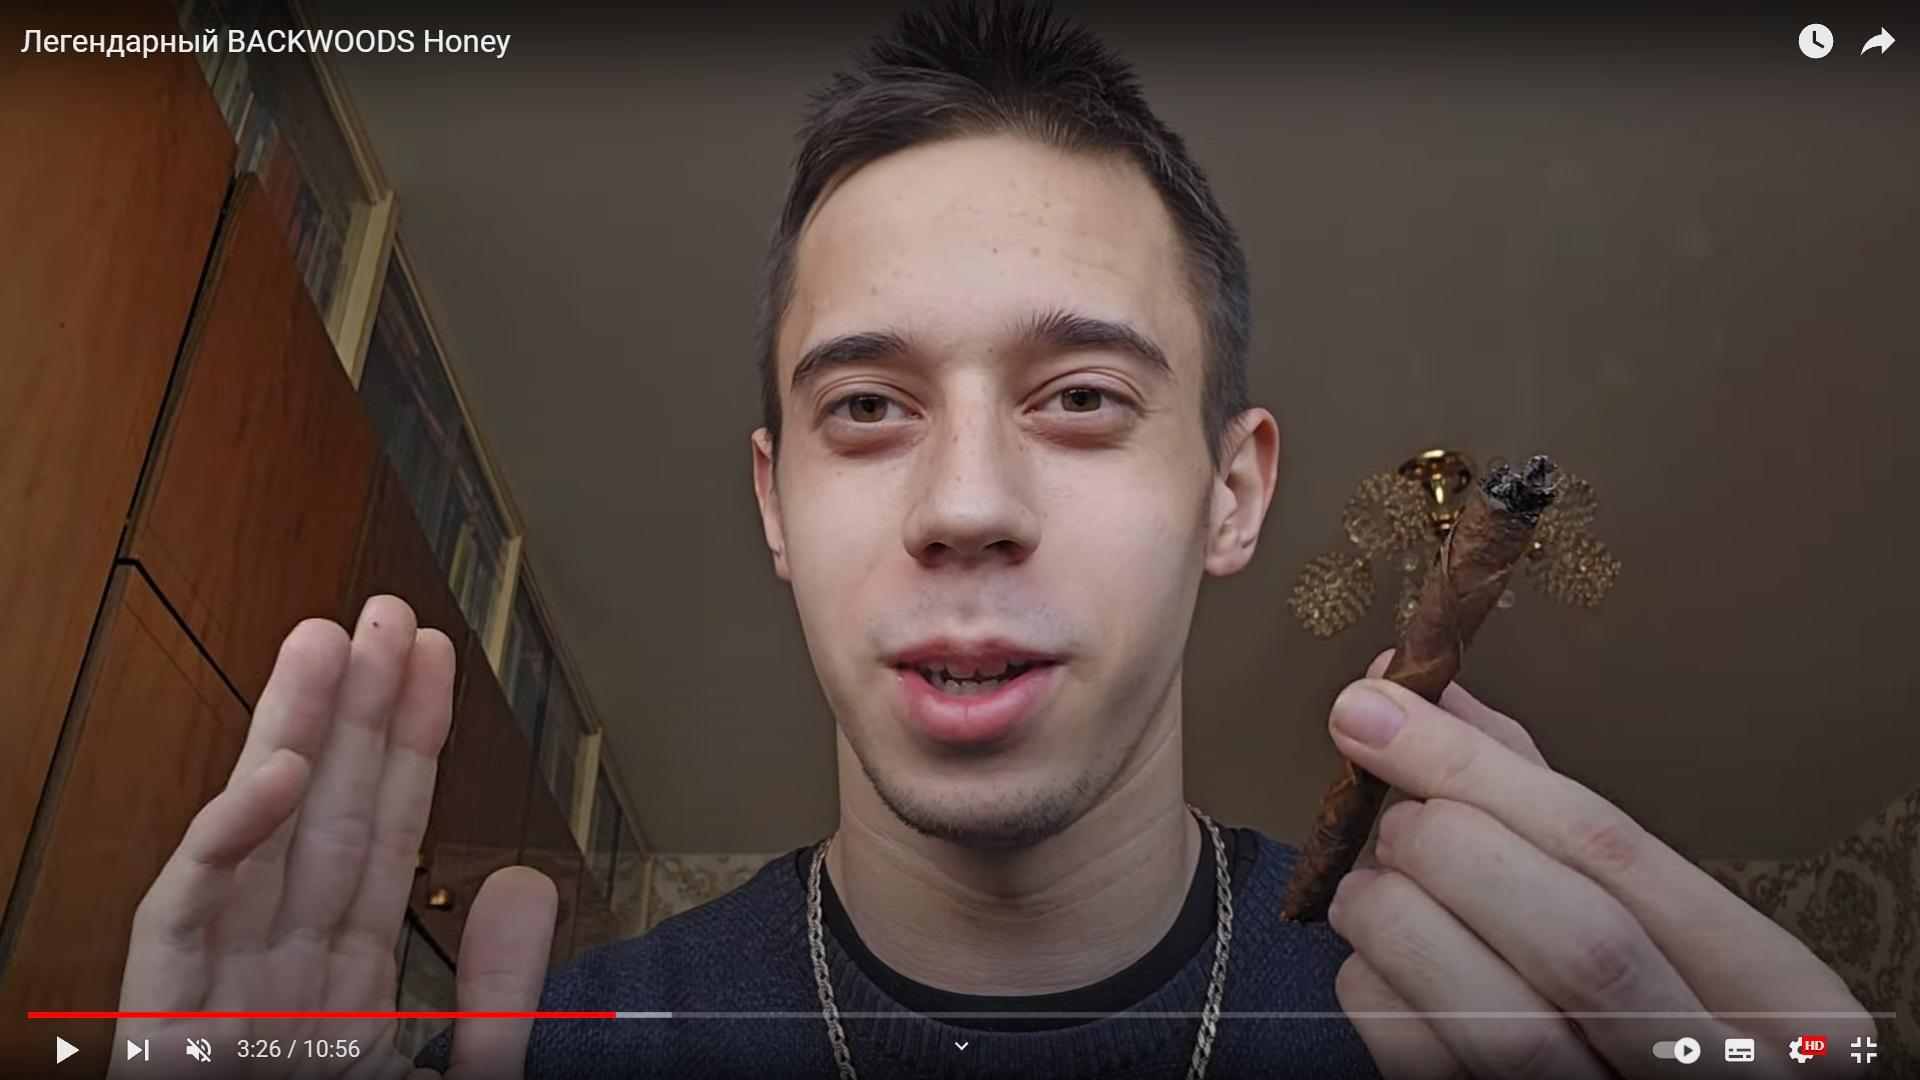cigarette: (1280, 455, 1553, 923)
